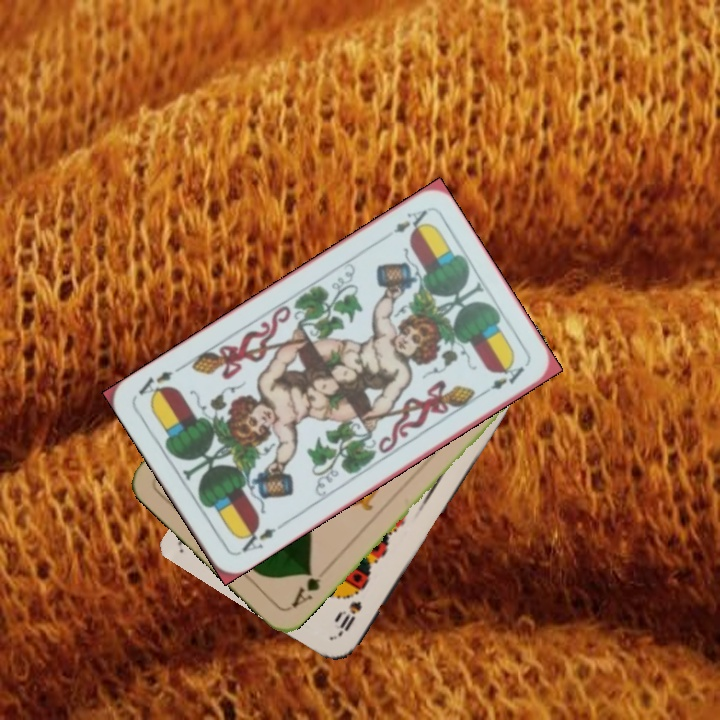EA: (234, 522, 279, 557), (389, 205, 431, 236)
GA: (286, 566, 323, 611)
S10: (333, 597, 365, 640)
